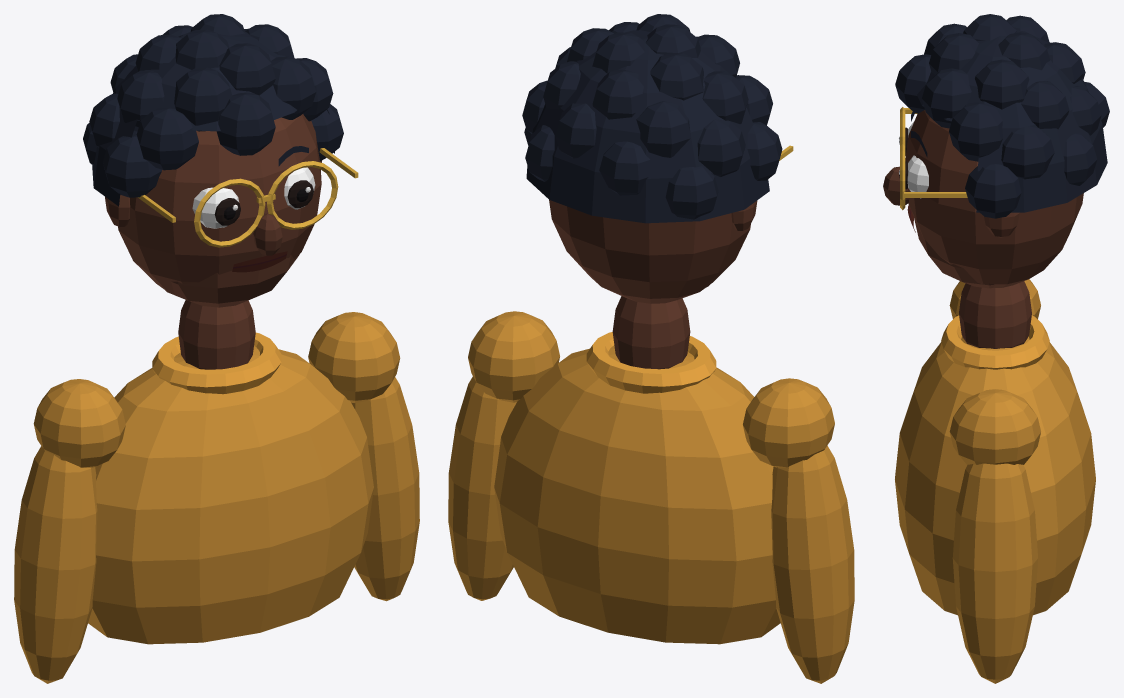
File: portrait_family.glb
3 views of the same model, side by side, from view 1: azimuth 30°, elevation 25°; view 2: azimuth 150°, elevation 25°; view 3: azimuth 270°, elevation 25° (orthographic). The views are drawn at different scales.
Parts seen in each view (by area): view 1: Torso_family, Skull_family, Arm-1_family, Arm1_family, Shoulder-1_family, Shoulder1_family, Neck_family, Collar_family, HairCap_family, Jaw_family, Curl12_family, Curl15_family (+17 smaller); view 2: Torso_family, Arm-1_family, HairCap_family, Skull_family, Arm1_family, Shoulder-1_family, Shoulder1_family, Neck_family, Collar_family, Curl14_family, Curl1_family, Curl6_family (+14 smaller); view 3: Torso_family, Arm1_family, Skull_family, HairCap_family, Shoulder1_family, Neck_family, Collar_family, Curl13_family, Curl0_family, Curl8_family, Curl18_family, Curl21_family (+18 smaller).
Boxes of the visible parts, x1,y1,x2,y2 form: Torso_family: (88, 346, 373, 644); Skull_family: (118, 114, 321, 294); Arm-1_family: (14, 446, 97, 683); Arm1_family: (351, 377, 419, 601); Shoulder-1_family: (33, 379, 125, 467); Shoulder1_family: (308, 312, 400, 402); Neck_family: (178, 300, 255, 369); Collar_family: (152, 332, 281, 394); HairCap_family: (92, 31, 334, 206); Jaw_family: (165, 255, 298, 307); Curl12_family: (136, 107, 198, 170); Curl15_family: (216, 92, 275, 155); Torso_family: (494, 345, 780, 644); Arm-1_family: (771, 445, 854, 683); HairCap_family: (526, 30, 769, 223); Skull_family: (549, 200, 750, 303); Arm1_family: (448, 376, 516, 600); Shoulder-1_family: (743, 378, 834, 467); Shoulder1_family: (468, 311, 559, 402); Neck_family: (612, 296, 690, 369); Collar_family: (586, 332, 716, 393); Curl14_family: (636, 101, 690, 157); Curl1_family: (665, 166, 718, 219); Curl6_family: (599, 141, 650, 195); Torso_family: (895, 336, 1095, 615); Arm1_family: (952, 463, 1037, 683); Skull_family: (905, 110, 1083, 287); HairCap_family: (917, 30, 1107, 212); Shoulder1_family: (949, 389, 1040, 464); Neck_family: (959, 281, 1031, 348); Collar_family: (941, 315, 1049, 369); Curl13_family: (949, 102, 1002, 161); Curl0_family: (965, 164, 1021, 218); Curl8_family: (1001, 126, 1054, 179); Curl18_family: (921, 68, 971, 128); Curl21_family: (975, 59, 1029, 109).
Size of what is drawn, in the model's own units: 0.7032 by 1.05 by 0.372.
